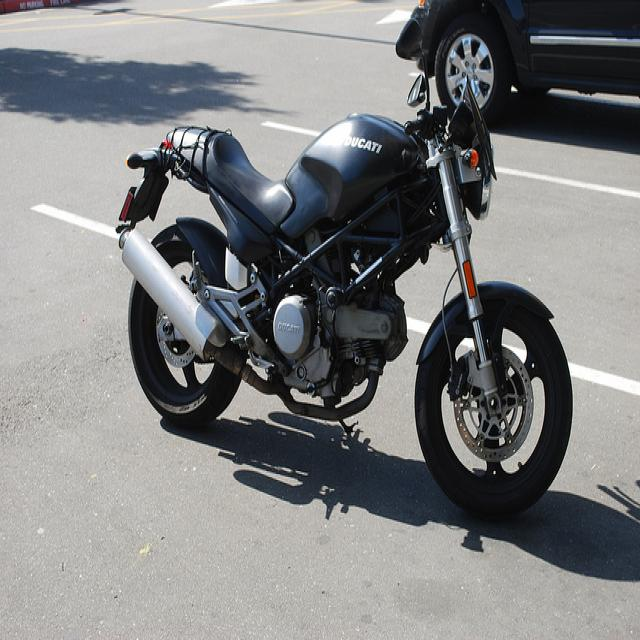motor: (109, 6, 583, 526)
